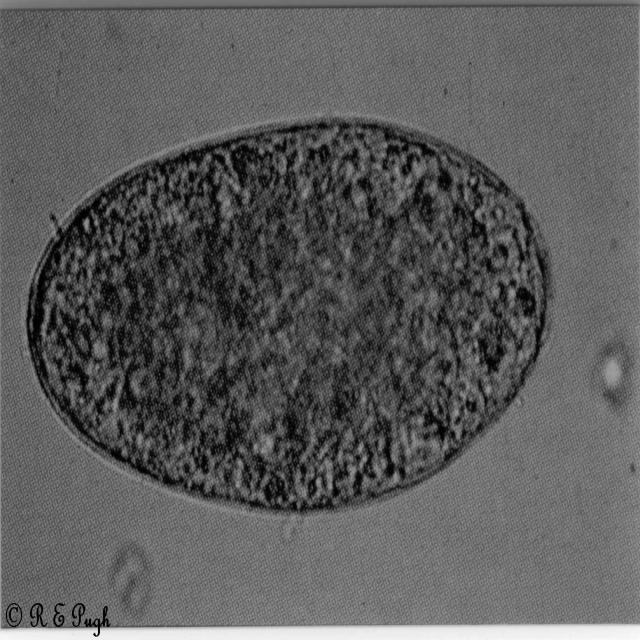Fasciola Hepatica: (24, 108, 558, 517)
